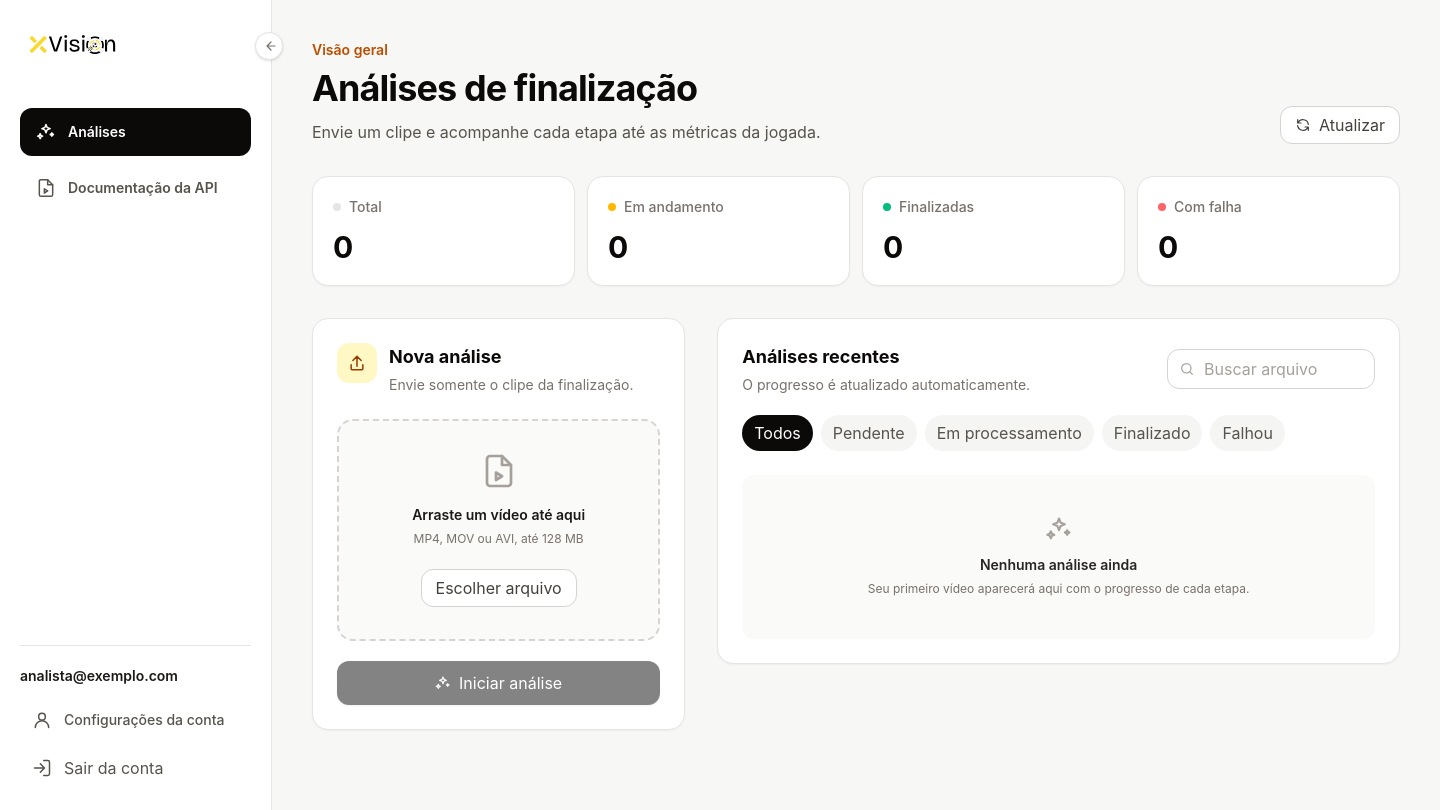
App › recolhe a navegacao lateral e preserva a preferencia
Click the button named "Recolher menu lateral".
click(269, 46)  # box [255, 32, 283, 60]
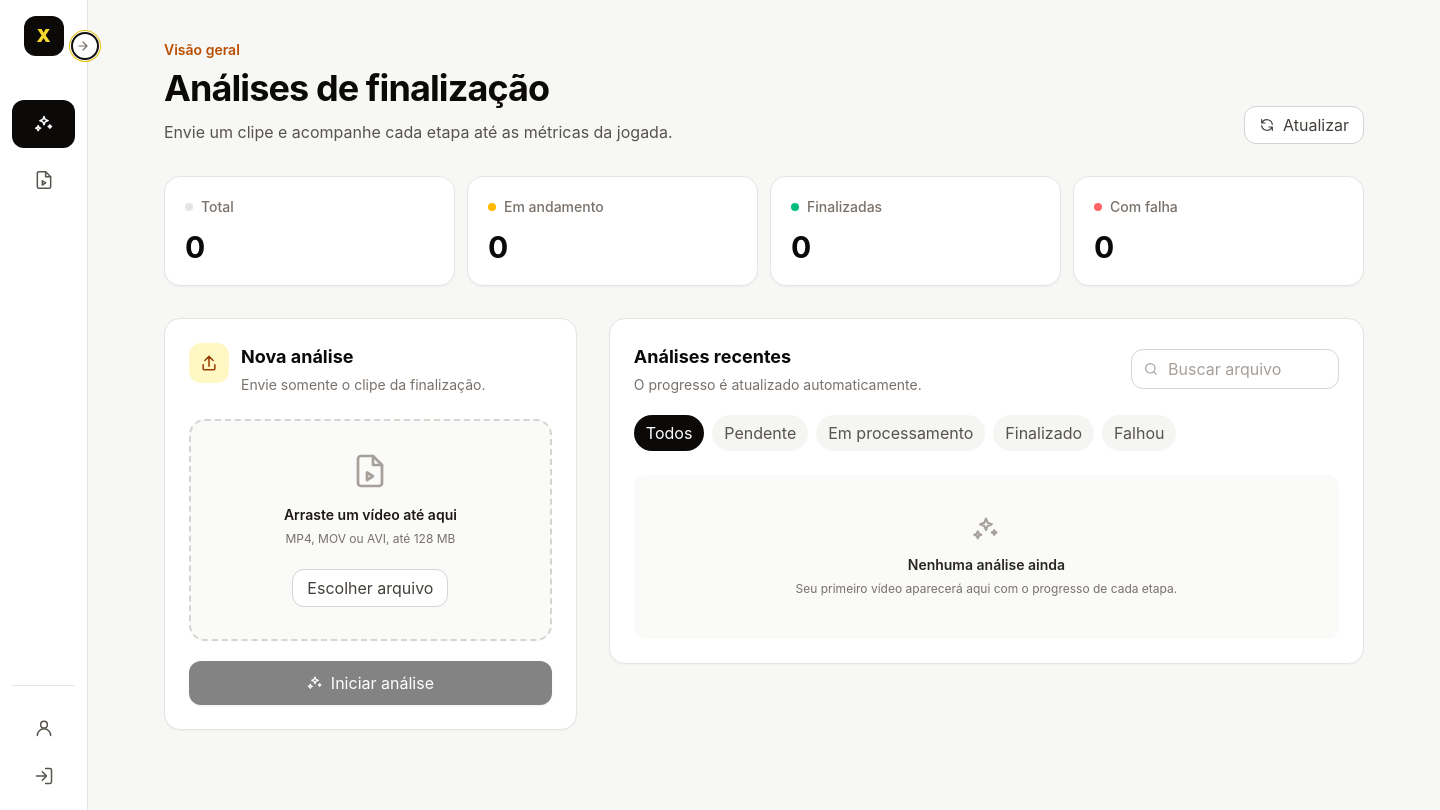
Expected: the button named "Expandir menu lateral" is collapsed, [71, 32, 99, 60]
